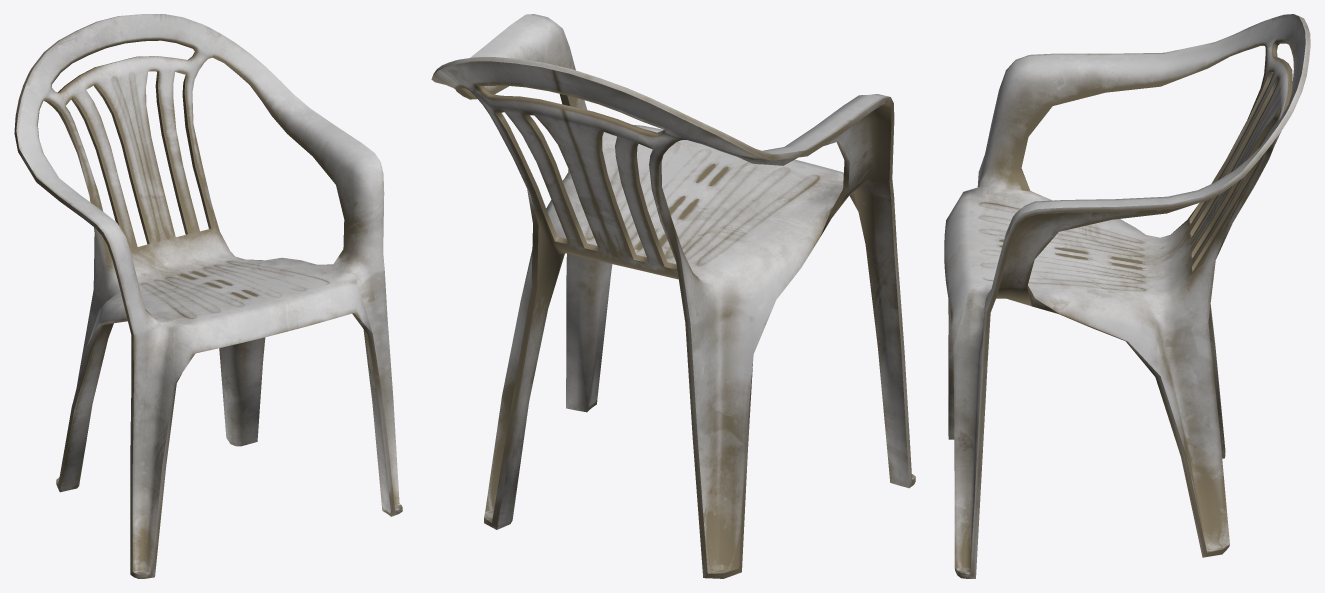
The model's file is aged_plastic_garden_chair.glb.
3 renders of one model, left to right at view 1: azimuth 30°, elevation 25°; view 2: azimuth 150°, elevation 25°; view 3: azimuth 270°, elevation 25°, orthographic. The views are drawn at different scales.
Visible parts, largest first — view 1: Box002_default_0; view 2: Box002_default_0; view 3: Box002_default_0.
Boxes of the visible parts, x1,y1,x2,y2 form: Box002_default_0: (14,14,402,578); Box002_default_0: (431,14,915,578); Box002_default_0: (944,14,1310,578).
Size of the model in its own units: 0.5923 by 0.8308 by 0.5939.
Materials: 1 (1 with a texture image).
